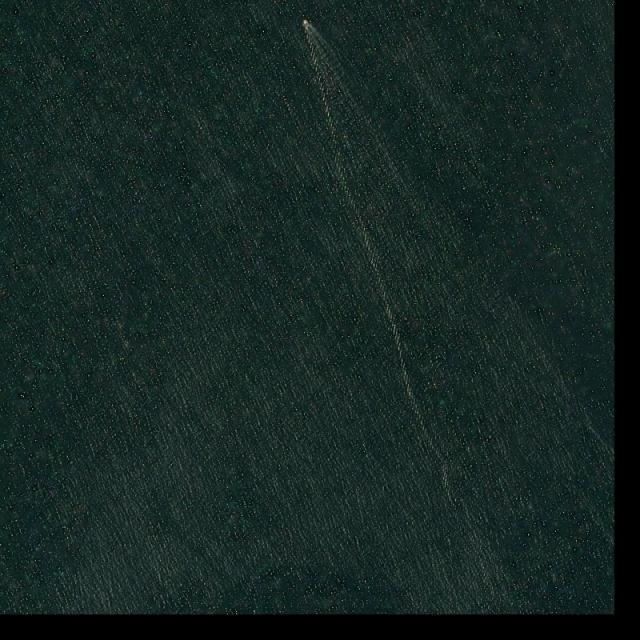ship: (303, 20, 310, 30)
